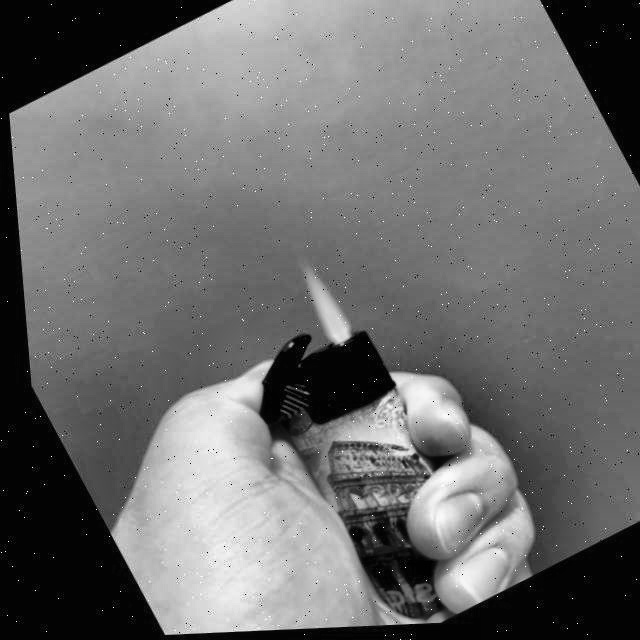Fire: (288, 269, 349, 350)
